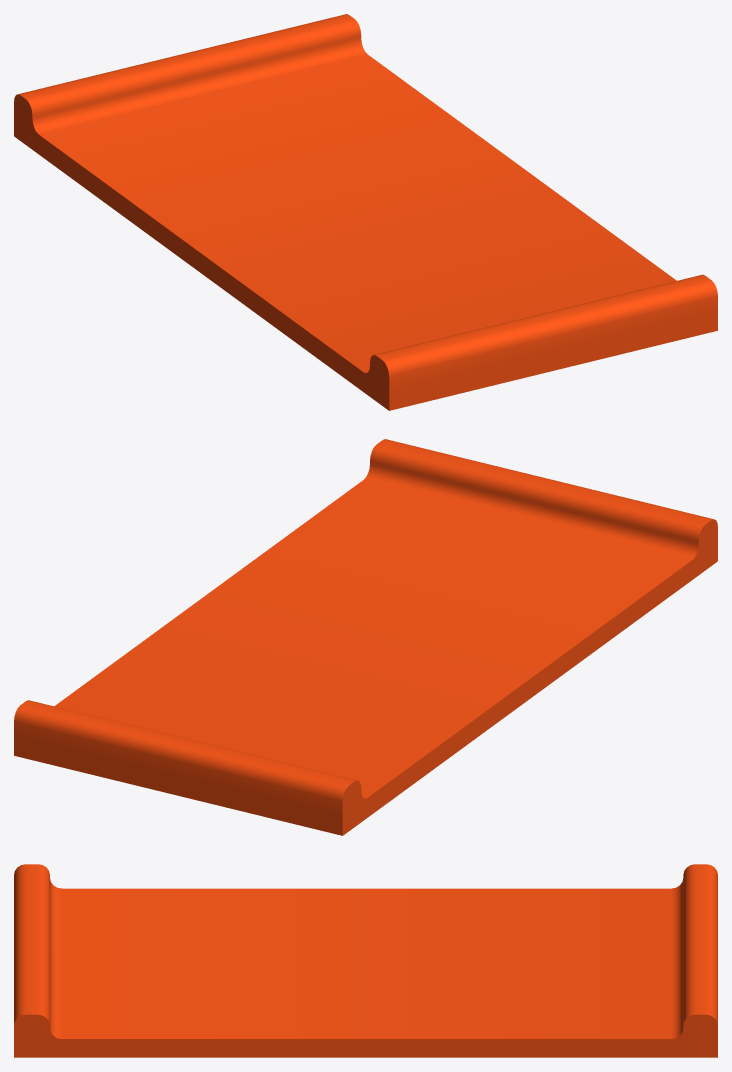
The model's file is hotwheels.fbx.
3 renders of one model, top to bottom at view 1: azimuth 30°, elevation 25°; view 2: azimuth 150°, elevation 25°; view 3: azimuth 270°, elevation 25°, orthographic. The views are drawn at different scales.
Visible parts, largest first — view 1: Cube; view 2: Cube; view 3: Cube.
Boxes of the visible parts, x1,y1,x2,y2 form: Cube: (14,14,717,410); Cube: (14,439,717,835); Cube: (14,864,717,1057).
Size of the model in its own units: 84 by 11.19 by 166.
